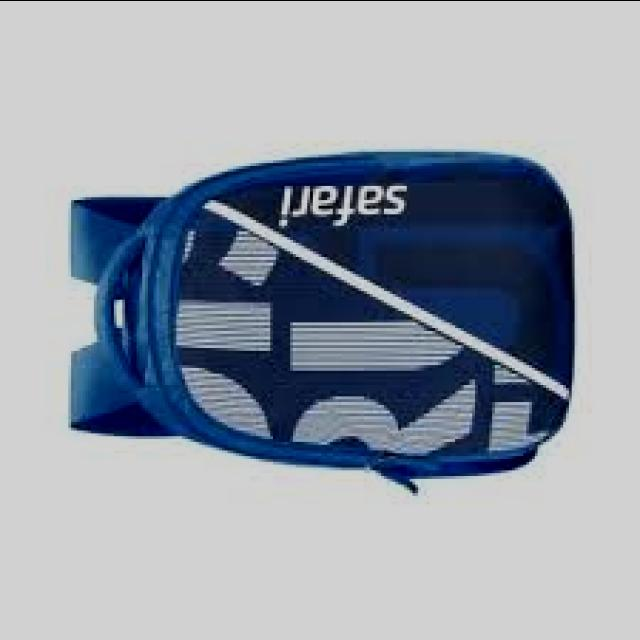backpack: (67, 152, 576, 496)
